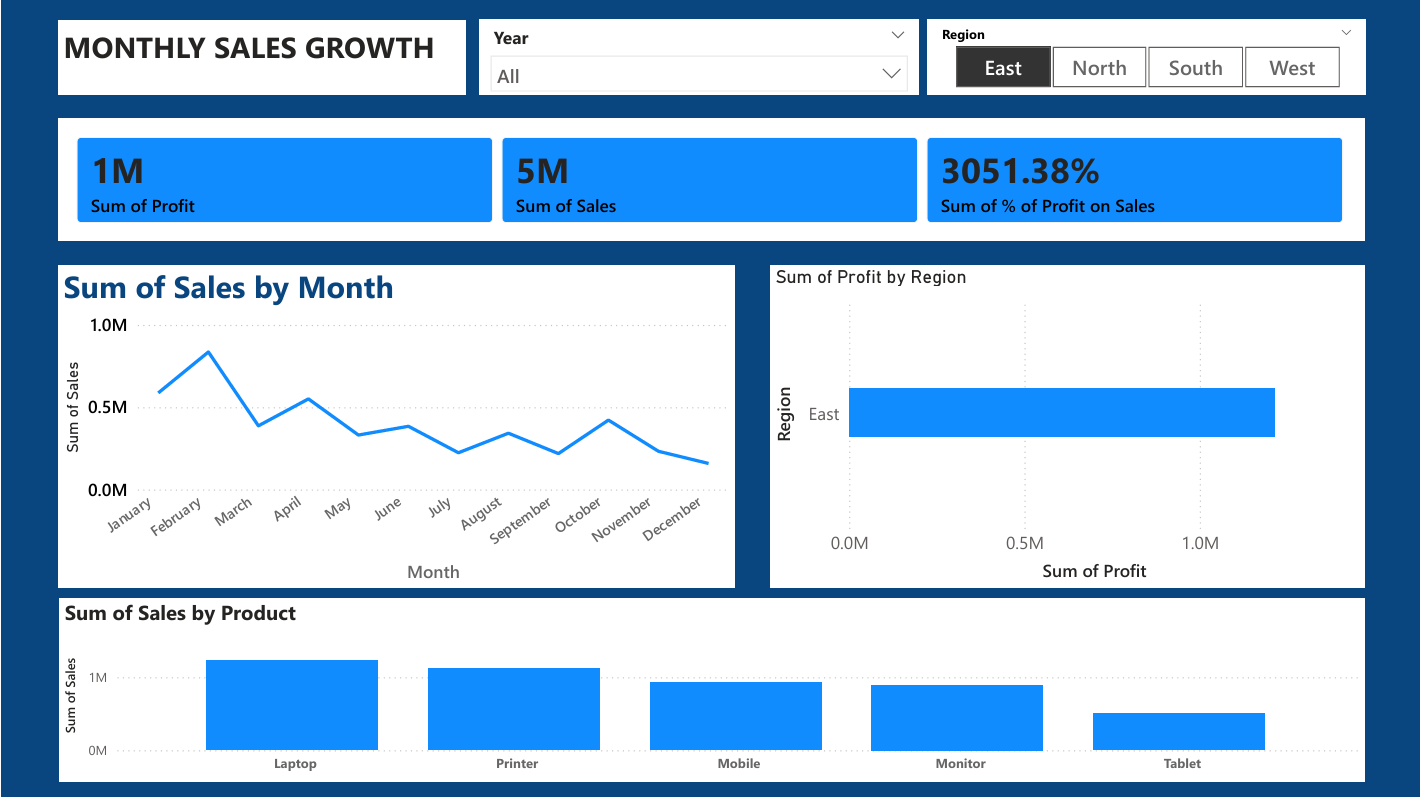

This screenshot's page, from the dashboard's own definition file:
{"tool":"powerbi","page":{"name":"Page 1","canvas":[1280,720],"ordinal":0},"visuals":[{"type":"cardVisual","fields":{"Data":["Sum(sales_data.Profit)","Sum(sales_data.Sales)","Sum(sales_data.% of Profit on Sales)"]},"box":[52.4,109.6,1201.9,113.2],"z":0},{"type":"lineChart","title":"Sum of Sales by Month","fields":{"Category":["sales_data.Order_Date.Variation.Date Hierarchy.Month"],"Y":["Sum(sales_data.Sales)"]},"box":[52.1,244.3,621.6,296.4],"z":1000},{"type":"barChart","fields":{"Category":["sales_data.Region"],"Y":["Sum(sales_data.Profit)"]},"box":[707.1,244.3,547.1,295.7],"z":1001},{"type":"columnChart","fields":{"Category":["sales_data.Product"],"Y":["Sum(sales_data.Sales)"]},"box":[52.8,550,1201.4,169.4],"z":1002},{"type":"slicer","fields":{"Values":["sales_data.Year"]},"box":[439.5,17.9,403.8,69.1],"z":1003},{"type":"slicer","fields":{"Values":["sales_data.Region"]},"box":[851.7,17.9,402.6,69.1],"z":1004},{"type":"textbox","box":[52.4,19.1,375.2,67.9],"z":1005}]}

Visuals, with their boxes in screenshot pixels (x1, y1, x2, y2), scaled from the page's 1280x720 canvas onto the 1420x797 screenshot:
cardVisual - Sum(sales_data.Profit) x Sum(sales_data.Sales): rect(58, 121, 1391, 247)
"Sum of Sales by Month" lineChart: rect(58, 270, 747, 599)
barChart - sales_data.Region x Sum(sales_data.Profit): rect(784, 270, 1391, 598)
columnChart - sales_data.Product x Sum(sales_data.Sales): rect(59, 609, 1391, 796)
slicer - sales_data.Year: rect(488, 20, 936, 96)
slicer - sales_data.Region: rect(945, 20, 1391, 96)
textbox: rect(58, 21, 474, 96)
